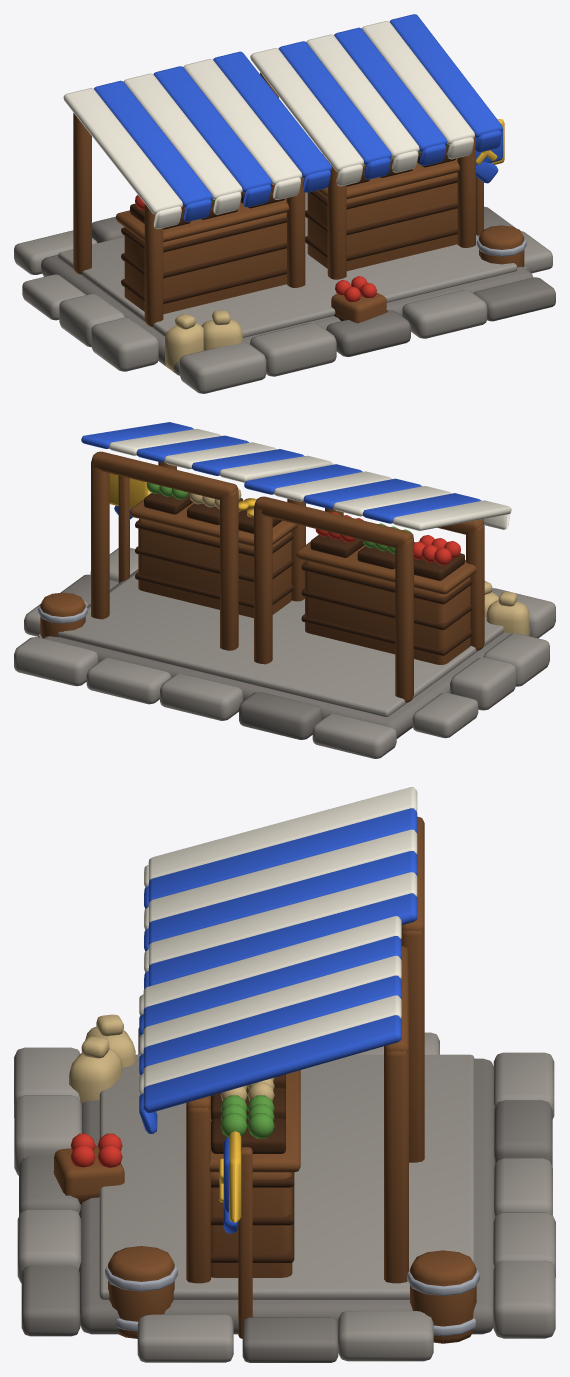
File: Market.glb
3 views of the same model, one above another, from view 1: azimuth 30°, elevation 25°; view 2: azimuth 150°, elevation 25°; view 3: azimuth 270°, elevation 25° (orthographic). The views are drawn at different scales.
Parts seen in each view (by area): view 1: Market; view 2: Market; view 3: Market.
Boxes of the visible parts, bbox=[...] form: Market: bbox=[14, 14, 555, 393]; Market: bbox=[14, 422, 555, 758]; Market: bbox=[14, 787, 555, 1362].
Bounding box in the file's own units: 3.52 × 1.58 × 2.6.
